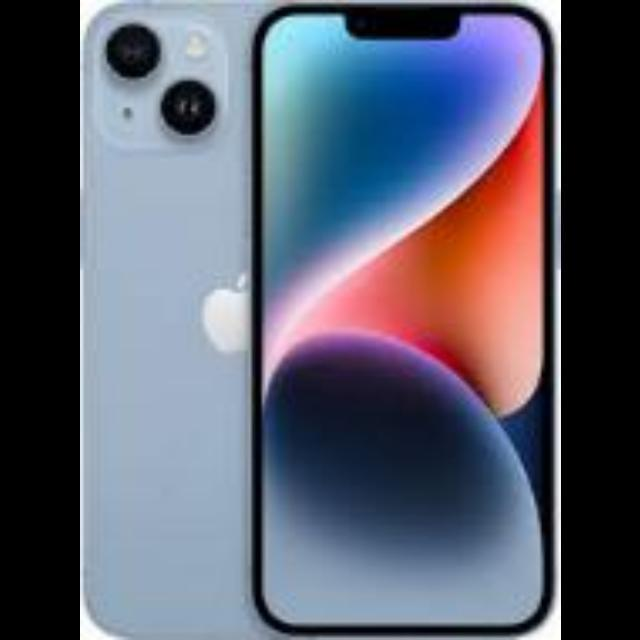PhoneUse: (252, 4, 560, 636), (81, 0, 252, 640)
